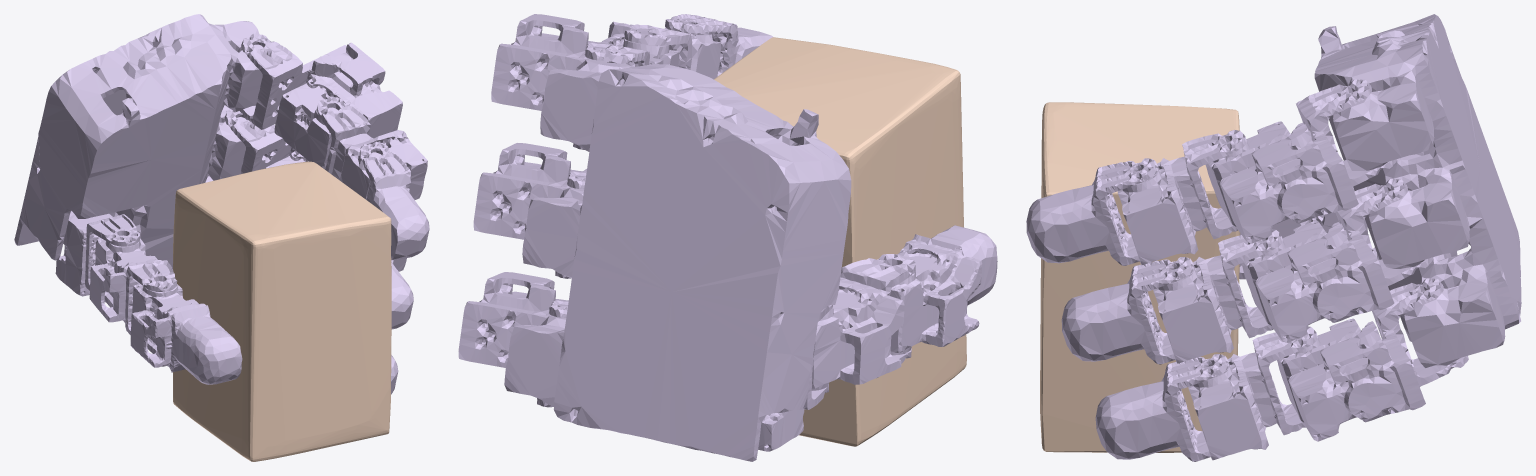
3 renders of one model, left to right at view 1: azimuth 30°, elevation 25°; view 2: azimuth 150°, elevation 25°; view 3: azimuth 270°, elevation 25°, orthographic. The views are drawn at different scales.
Parts seen in each view (by area): view 1: LEAP_hand, world; view 2: LEAP_hand, world; view 3: LEAP_hand, world.
Boxes of the visible parts, x1,y1,x2,y2 form: LEAP_hand: (14, 14, 429, 394); world: (173, 161, 391, 461); LEAP_hand: (458, 14, 997, 461); world: (714, 37, 966, 446); LEAP_hand: (1026, 14, 1521, 461); world: (1040, 102, 1240, 452).
Bounding box in the file's own units: 0.1549 × 0.1643 × 0.193.
